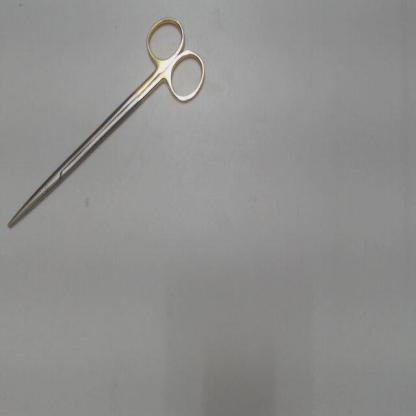7 Metzenbaum Scissors: (4, 12, 209, 235)
